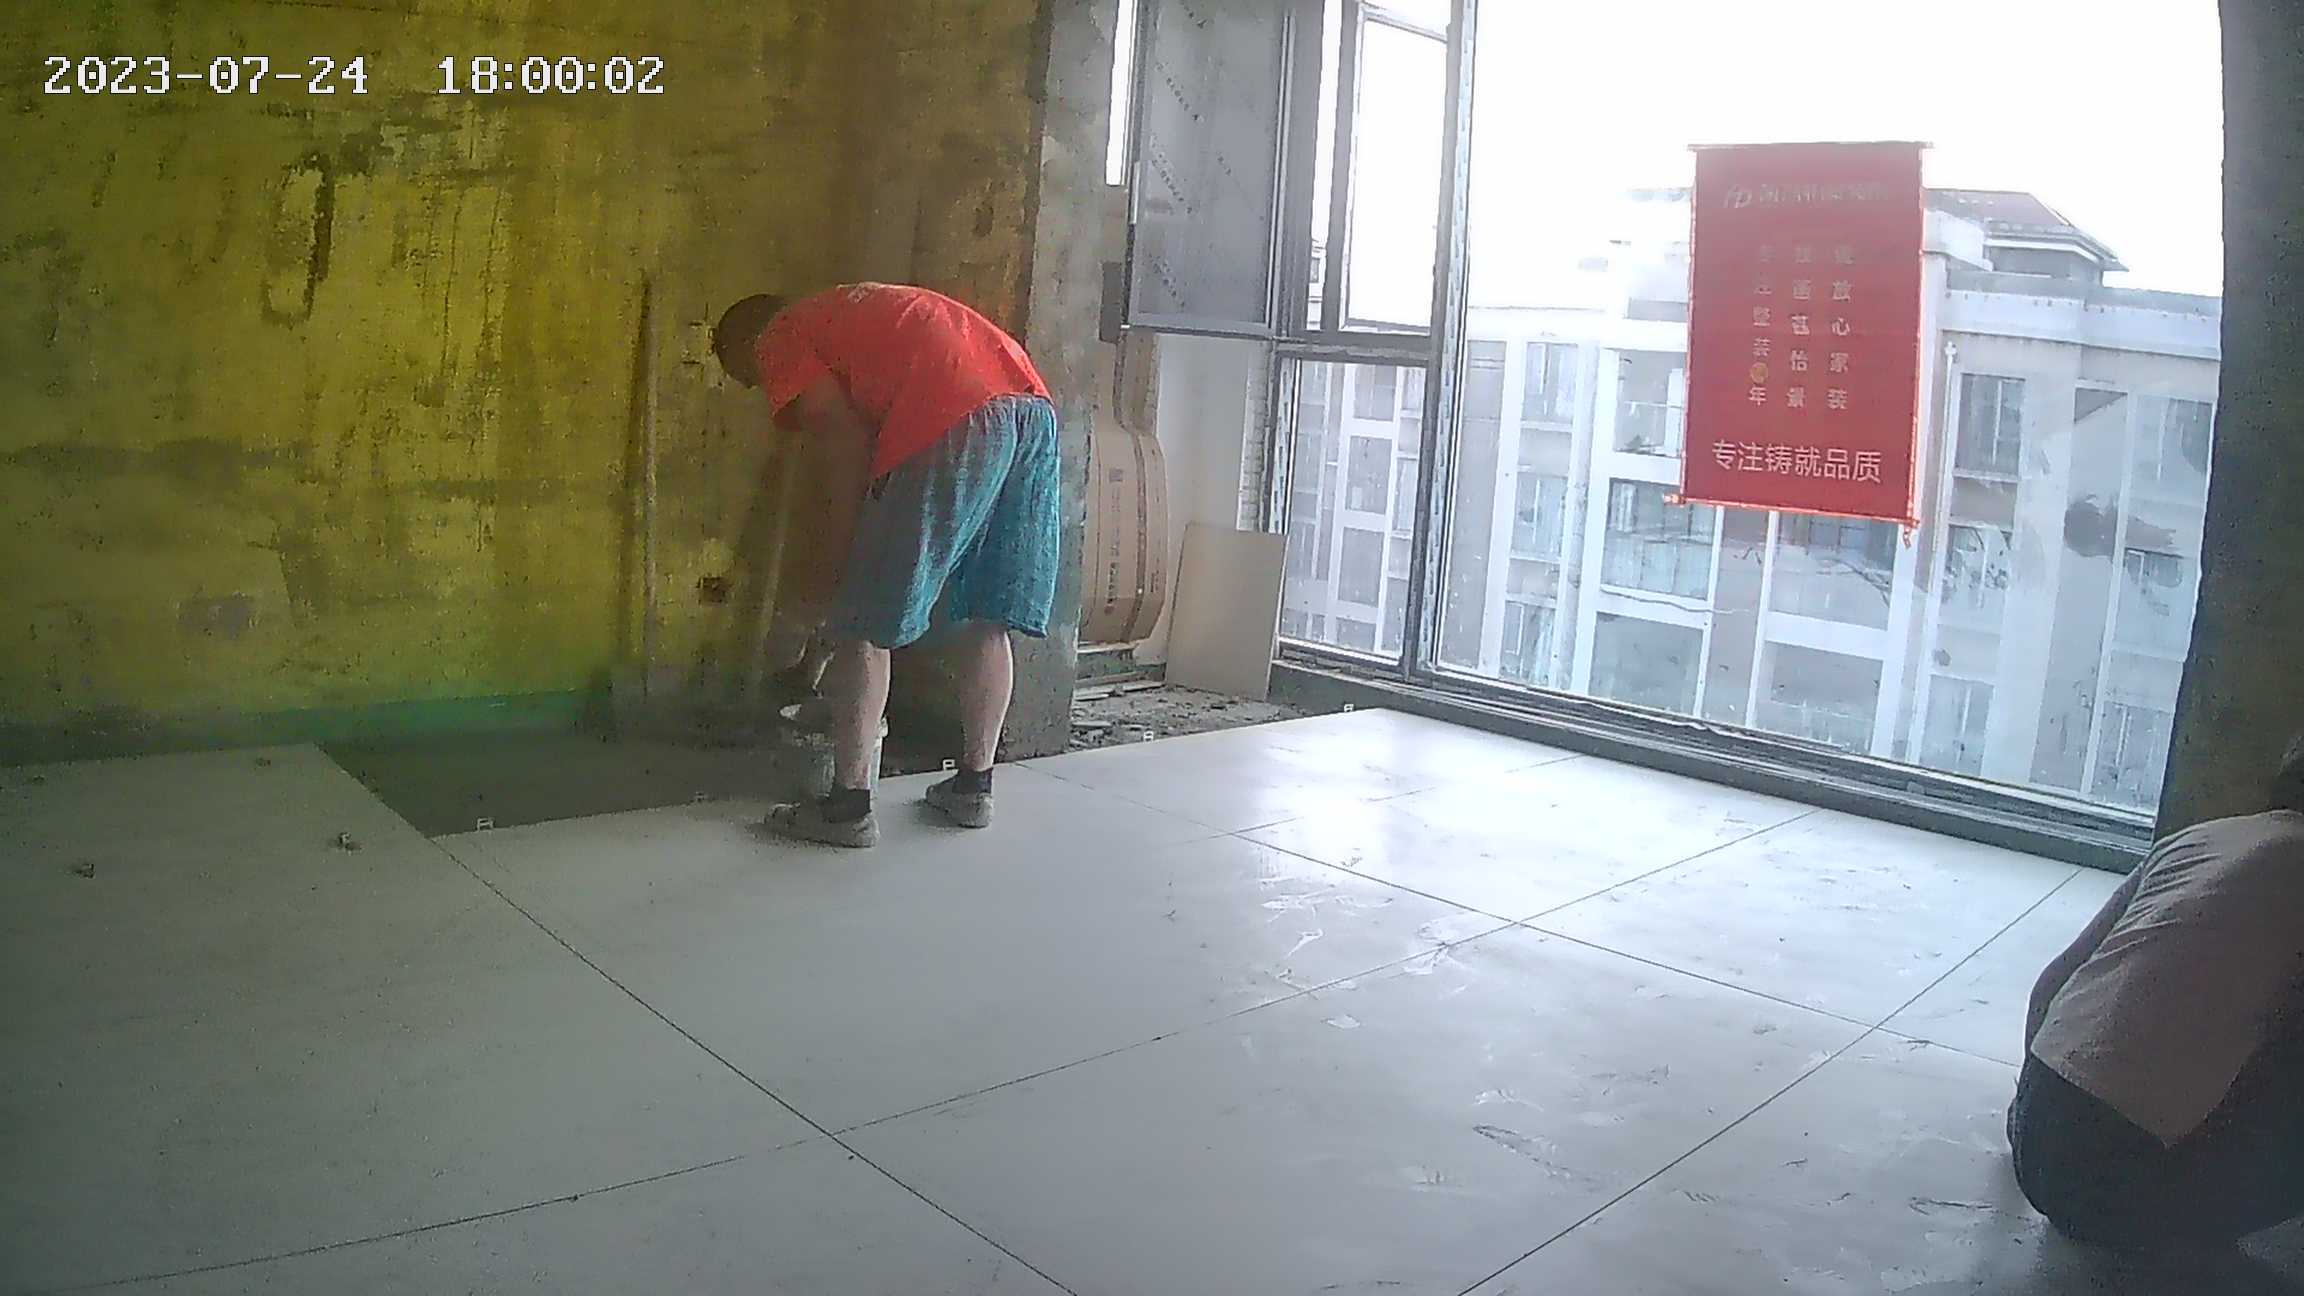people: (714, 279, 1070, 854), (2001, 756, 2304, 1279)
window: (1291, 4, 2214, 844)
